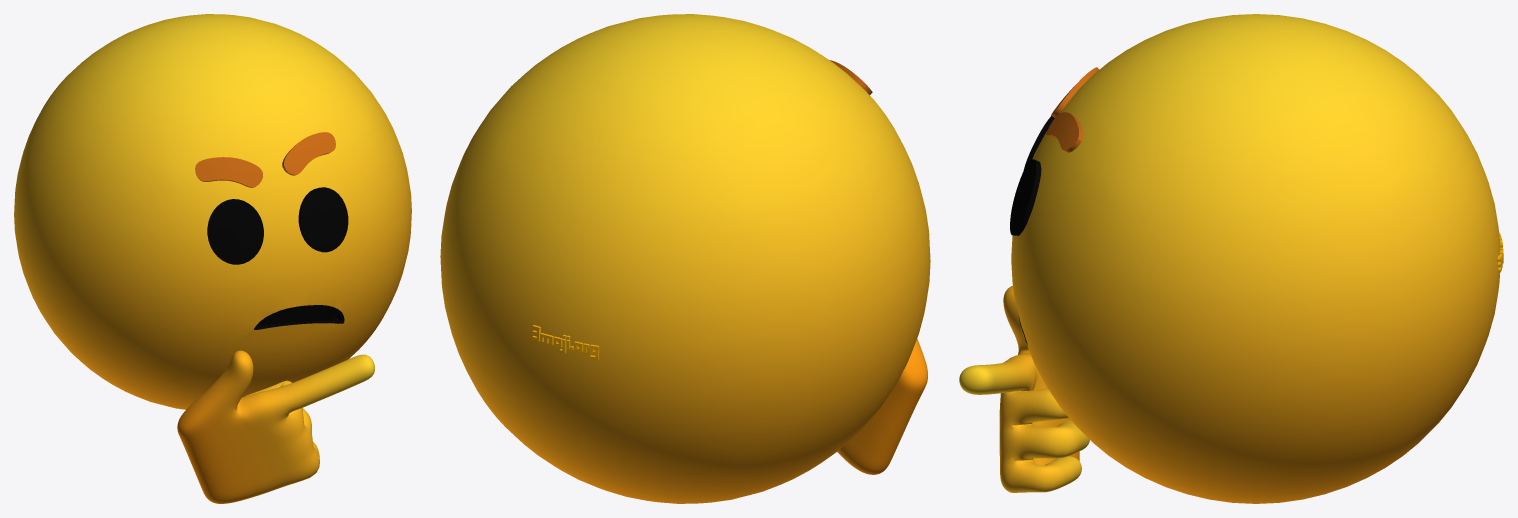
The model's file is thinking_face.gltf.
The picture shows the model from 3 angles, left to right: view 1: azimuth 30°, elevation 25°; view 2: azimuth 150°, elevation 25°; view 3: azimuth 270°, elevation 25°; orthographic projection. The views are drawn at different scales.
Parts seen in each view (by area): view 1: thinking_face; view 2: thinking_face; view 3: thinking_face.
Part boxes in pixels (<box>): thinking_face: <box>14,14,411,503</box>; thinking_face: <box>440,14,930,503</box>; thinking_face: <box>959,14,1503,503</box>.
Bounding box in the file's own units: 1.69 × 1.85 × 1.88.
Materials: 1 (1 with a texture image).
